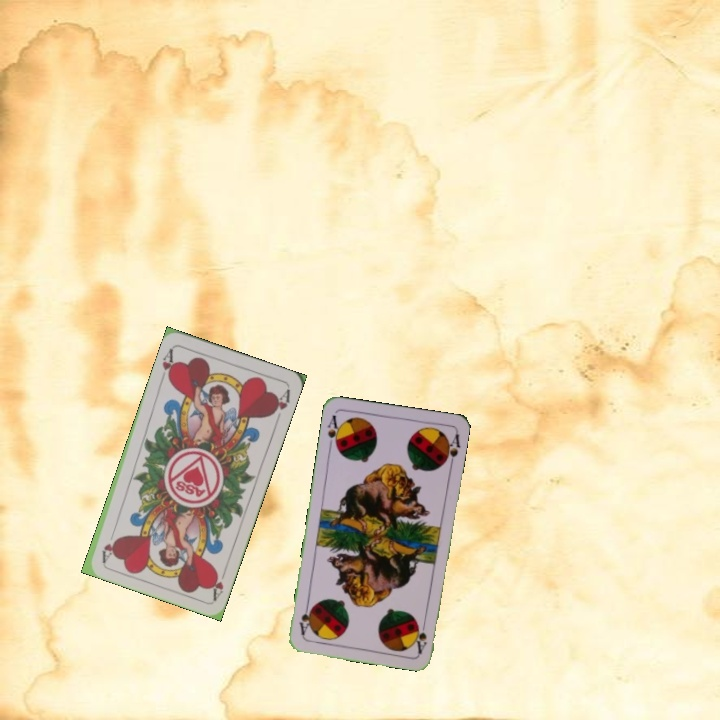HA: (207, 562, 230, 602), (157, 344, 178, 384)
SA: (323, 411, 344, 452), (413, 615, 429, 655)
